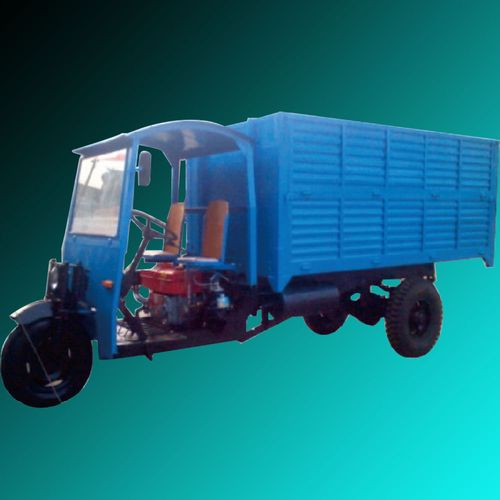empty: (25, 40, 483, 454)
